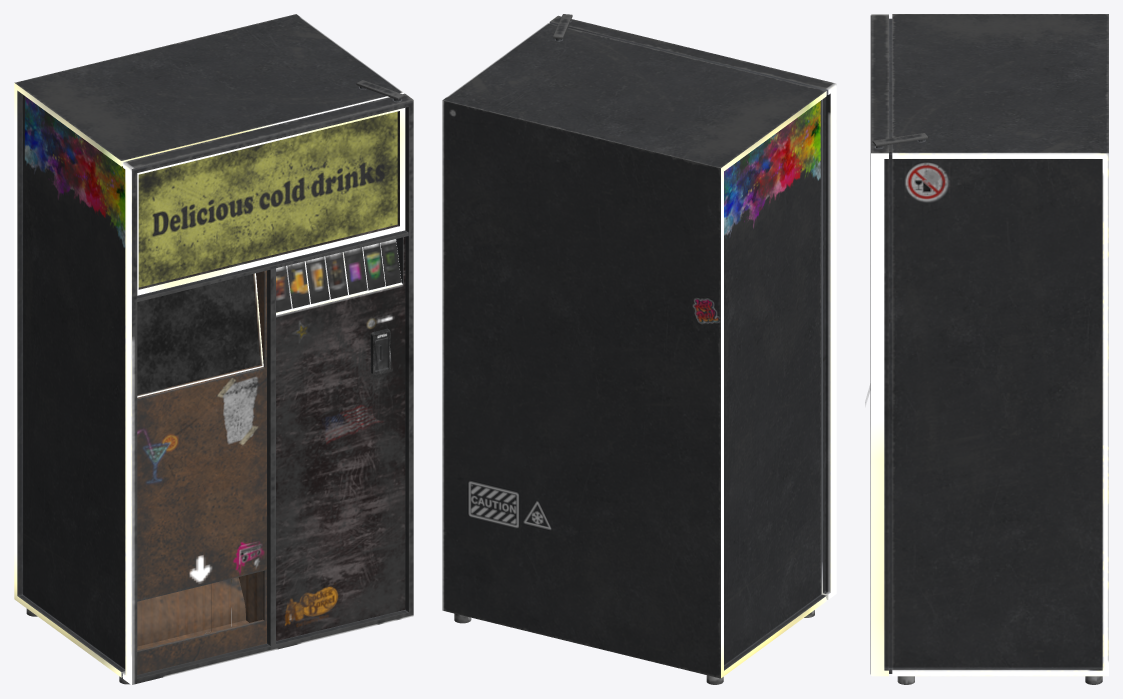
Rendered from drink_vending_machine.glb.
3 renders of one model, left to right at view 1: azimuth 30°, elevation 25°; view 2: azimuth 150°, elevation 25°; view 3: azimuth 270°, elevation 25°, orthographic. The views are drawn at different scales.
Parts seen in each view (by area): view 1: vendingmachine1; view 2: vendingmachine1; view 3: vendingmachine1.
Part boxes in pixels (box(x1,y1,x2,y2)): vendingmachine1: box(14, 14, 413, 684); vendingmachine1: box(442, 14, 836, 684); vendingmachine1: box(865, 14, 1108, 684).
Bounding box in the file's own units: 0.508 × 0.9178 × 0.3758.
Materials: 1 (1 with a texture image).
